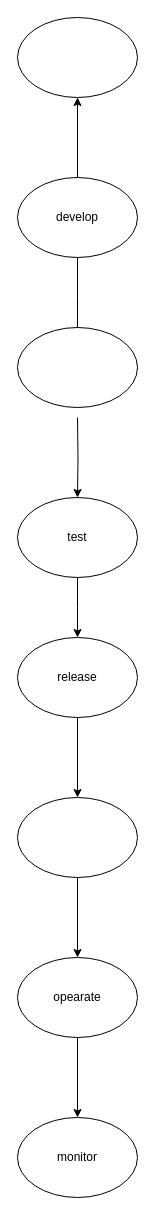
Image size: 155x1215. Some labels were removed from this diagram. The shapes that lost their labels are listed below. From the top down, each one's box as (x1, y1, x2, y2) in pixels, then its label:
(16, 16, 138, 98): plan
(16, 326, 138, 408): built
(16, 796, 138, 878): deploy
